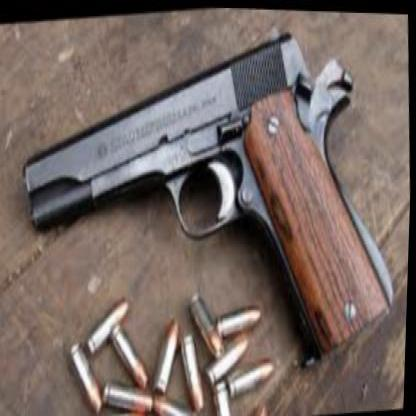pistol: (1, 0, 407, 371)
